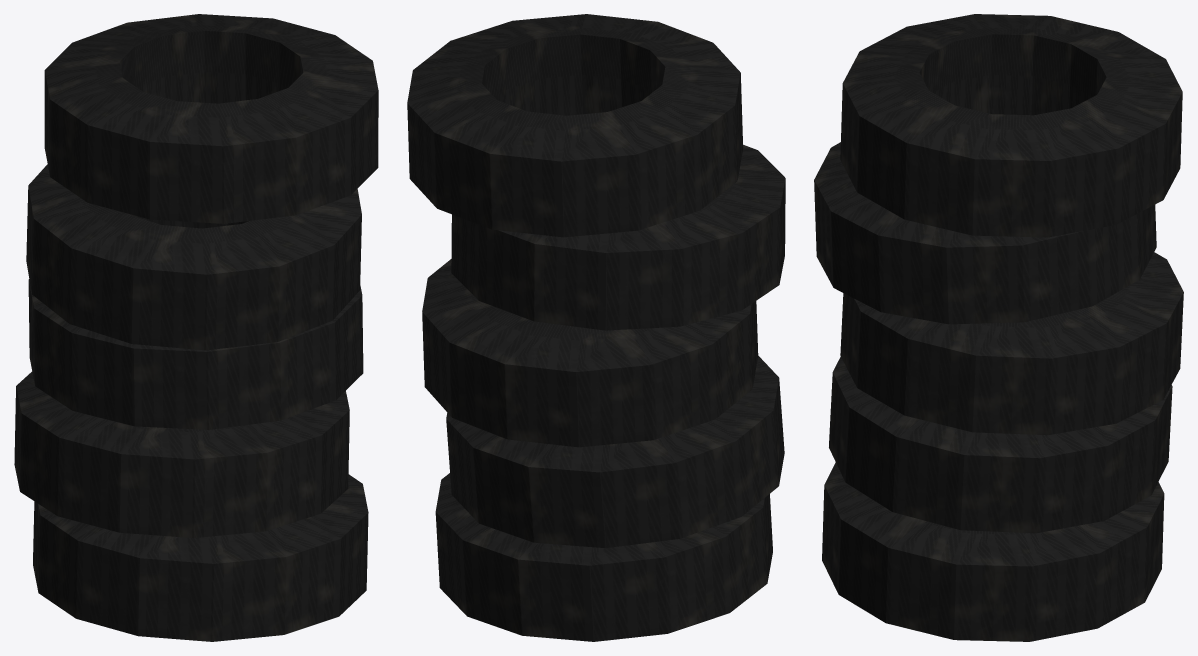
File: S1U_TyreStack.fbx
3 views of the same model, side by side, from view 1: azimuth 30°, elevation 25°; view 2: azimuth 150°, elevation 25°; view 3: azimuth 270°, elevation 25° (orthographic).
Visible parts, largest first — view 1: S1U_TyreStack; view 2: S1U_TyreStack; view 3: S1U_TyreStack.
Boxes of the visible parts, x1,y1,x2,y2 form: S1U_TyreStack: [14, 14, 378, 641]; S1U_TyreStack: [407, 14, 785, 641]; S1U_TyreStack: [814, 14, 1183, 641].
Size of the model in its own units: 0.7931 by 1.22 by 0.7827.
